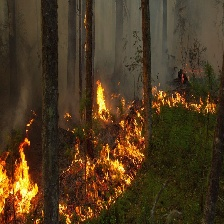fire: (57, 140, 141, 222), (124, 85, 223, 138), (3, 123, 44, 224), (95, 78, 116, 126)
smoke: (67, 1, 224, 76), (1, 2, 46, 120)
